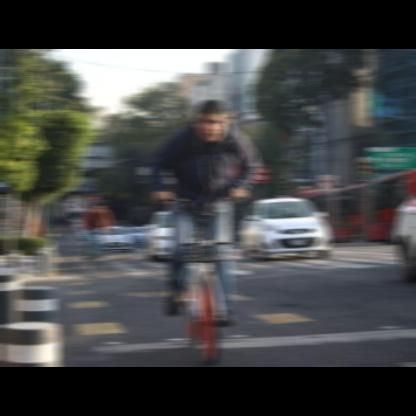Bicycle: (138, 185, 261, 366)
